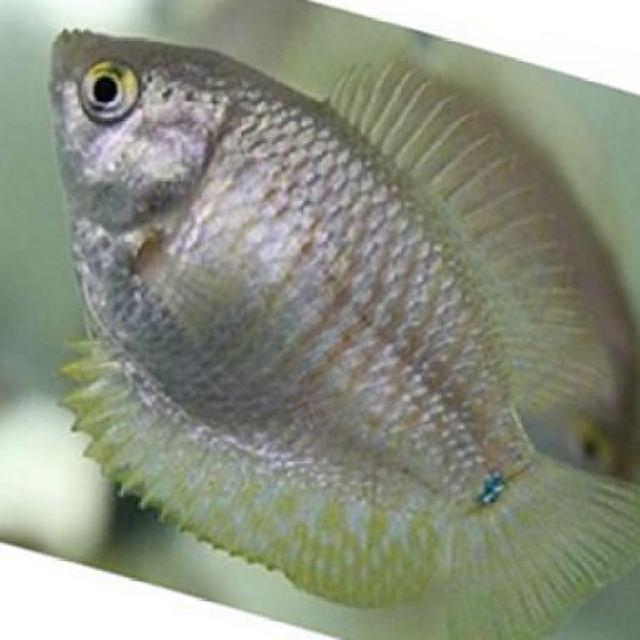Gourami: (43, 41, 638, 640)
